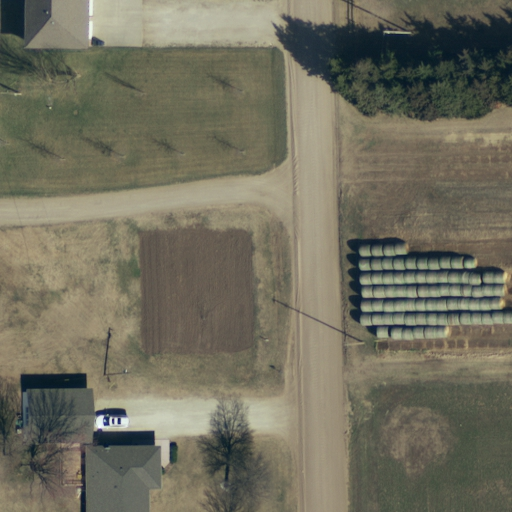DT: (98, 363, 135, 387), (338, 331, 372, 354)
